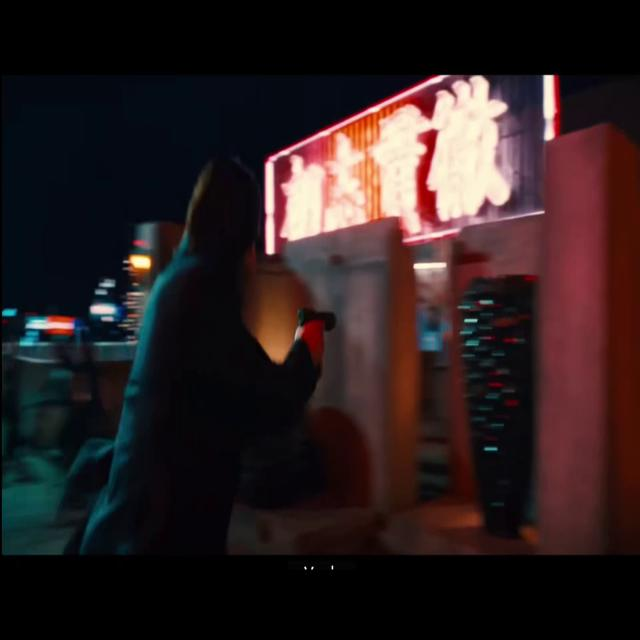weapons: (288, 287, 348, 384)
